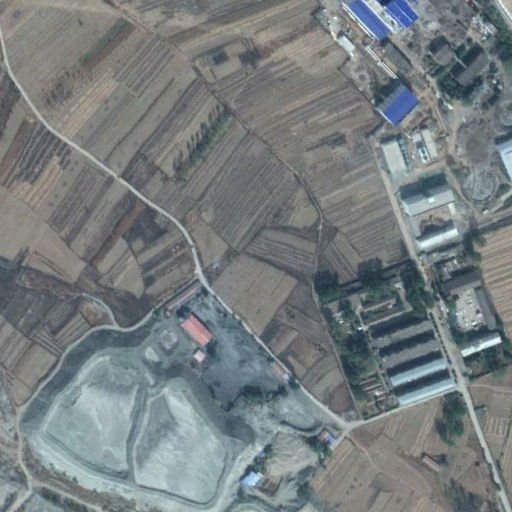tp: (37, 348, 228, 510)
